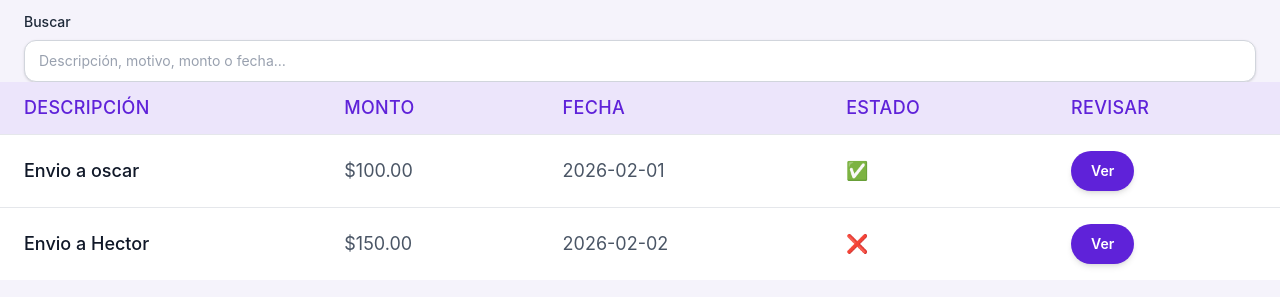
it: TableMovements › filters movements by description as you type
This screenshot has width=1280, height=297.
Type "oscar" into the search field with test id "movements-search-input" at [640, 61], box [24,40,1256,82]
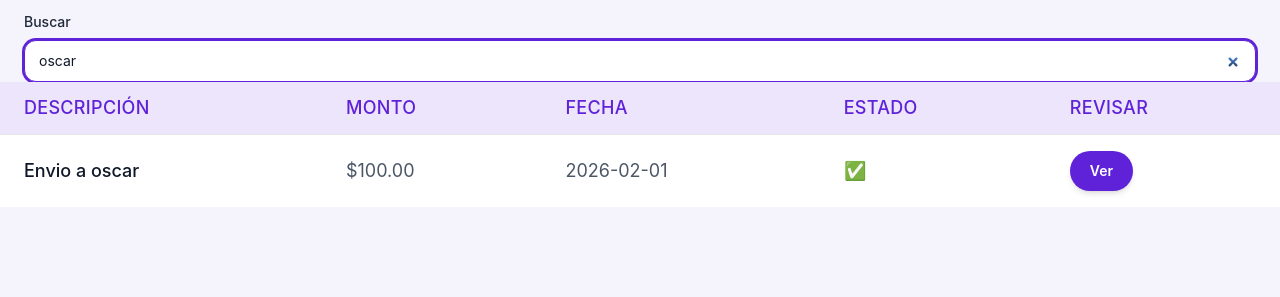
Check: the number of rows with test id "movement-row" is 1, box [0,134,1279,207]
